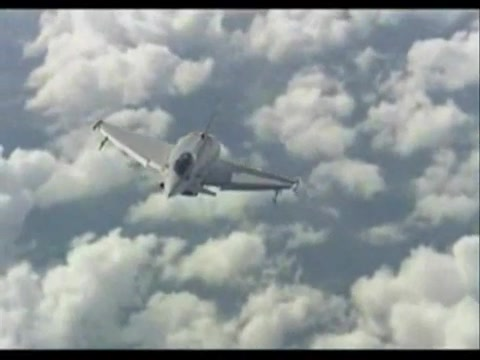aeroplane: (94, 106, 301, 203)
